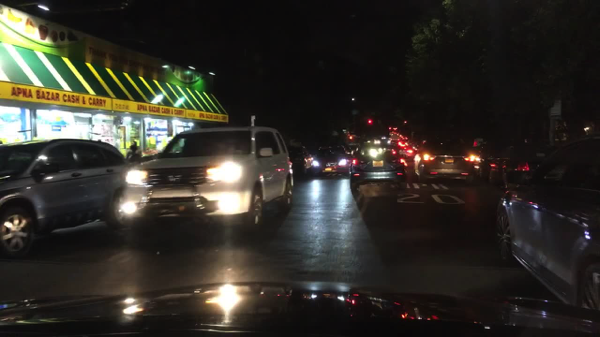car: (119, 125, 292, 237), (492, 136, 599, 317), (1, 140, 131, 257), (351, 138, 405, 192), (478, 142, 538, 188), (415, 140, 475, 185), (312, 146, 351, 175), (286, 146, 314, 179), (465, 149, 479, 168), (398, 143, 418, 156), (343, 145, 357, 157), (350, 143, 361, 154), (398, 140, 409, 147), (389, 140, 398, 146)
person: (126, 140, 142, 158), (128, 146, 141, 163)
traffic light: (367, 118, 372, 125)
traffic sign: (549, 97, 561, 117)
